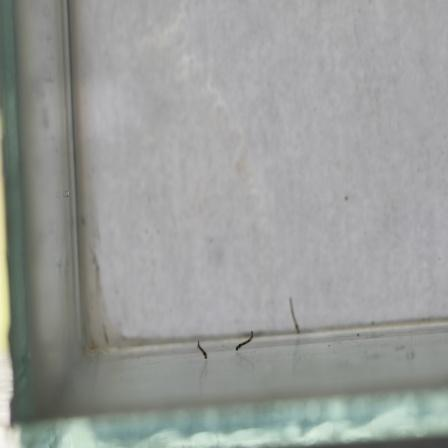Jentik-Nyamuk: (234, 330, 256, 353), (195, 339, 209, 362)
